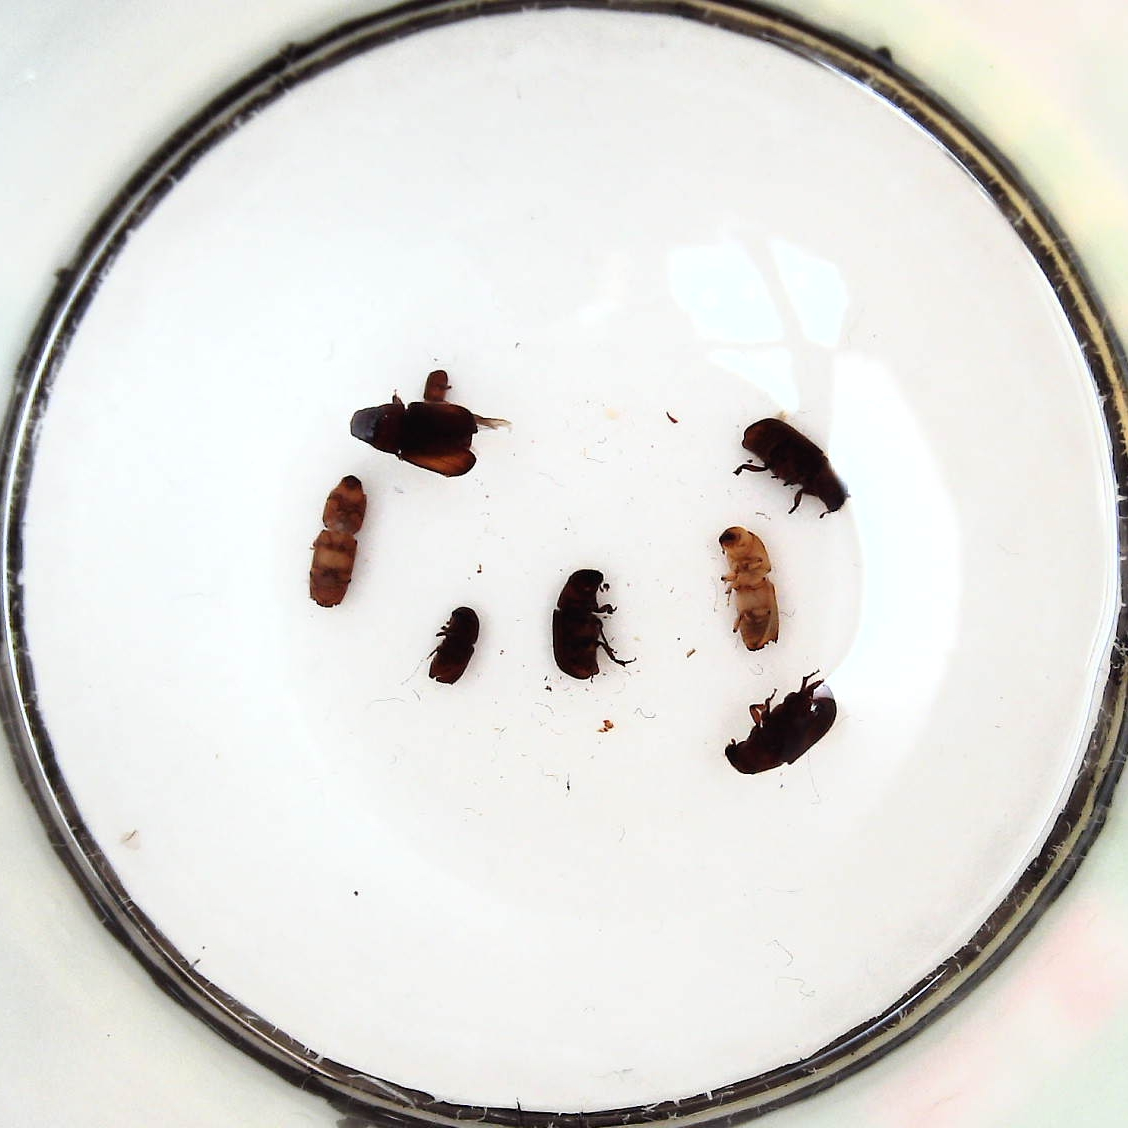Boerner: (715, 520, 785, 654), (308, 476, 367, 610)
Leconte: (721, 669, 837, 776), (734, 412, 846, 512), (349, 400, 478, 477), (549, 564, 628, 679)
Linnaeus: (426, 602, 482, 691)
